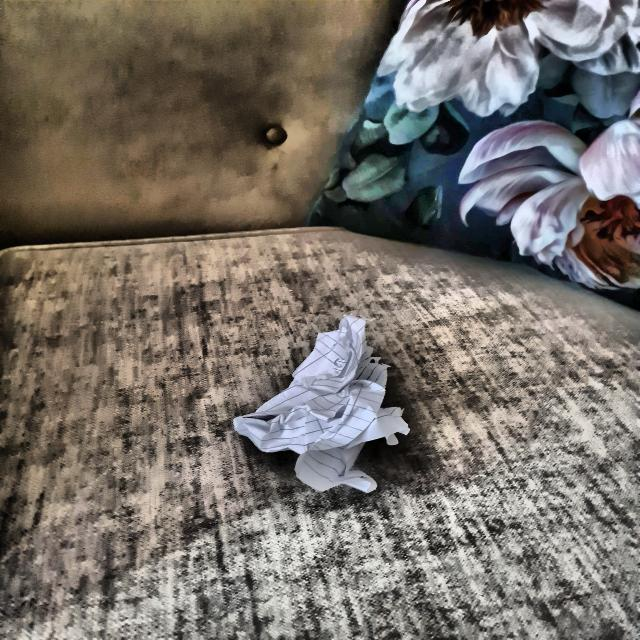Paper: (239, 313, 401, 489)
